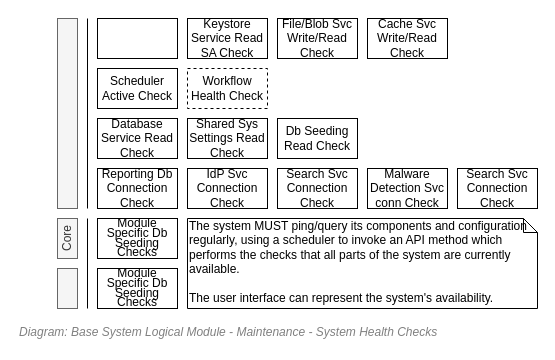
This 555x360 diagram has some shape labels left out. Each missing label, with the box of its shape:
Custom: (56, 268, 78, 308)
Local Host Configuration Read Check: (96, 18, 178, 58)
System: (56, 18, 78, 208)
